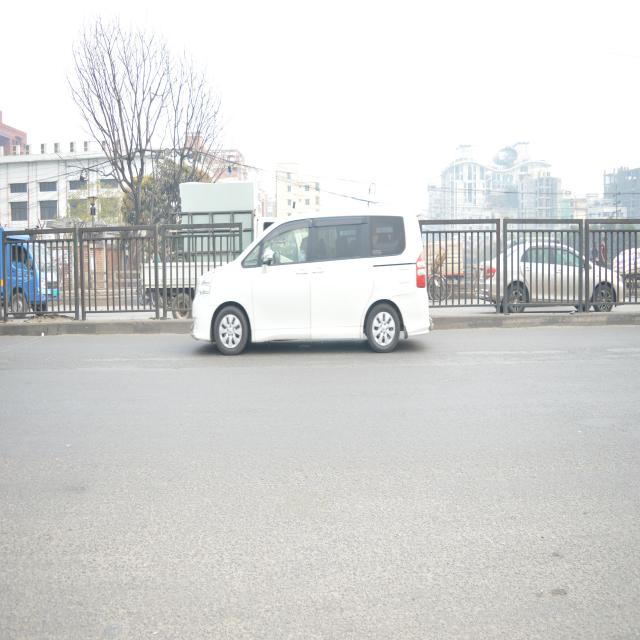car: (181, 208, 446, 364), (478, 221, 622, 324)
pickup-van: (0, 215, 66, 336)
